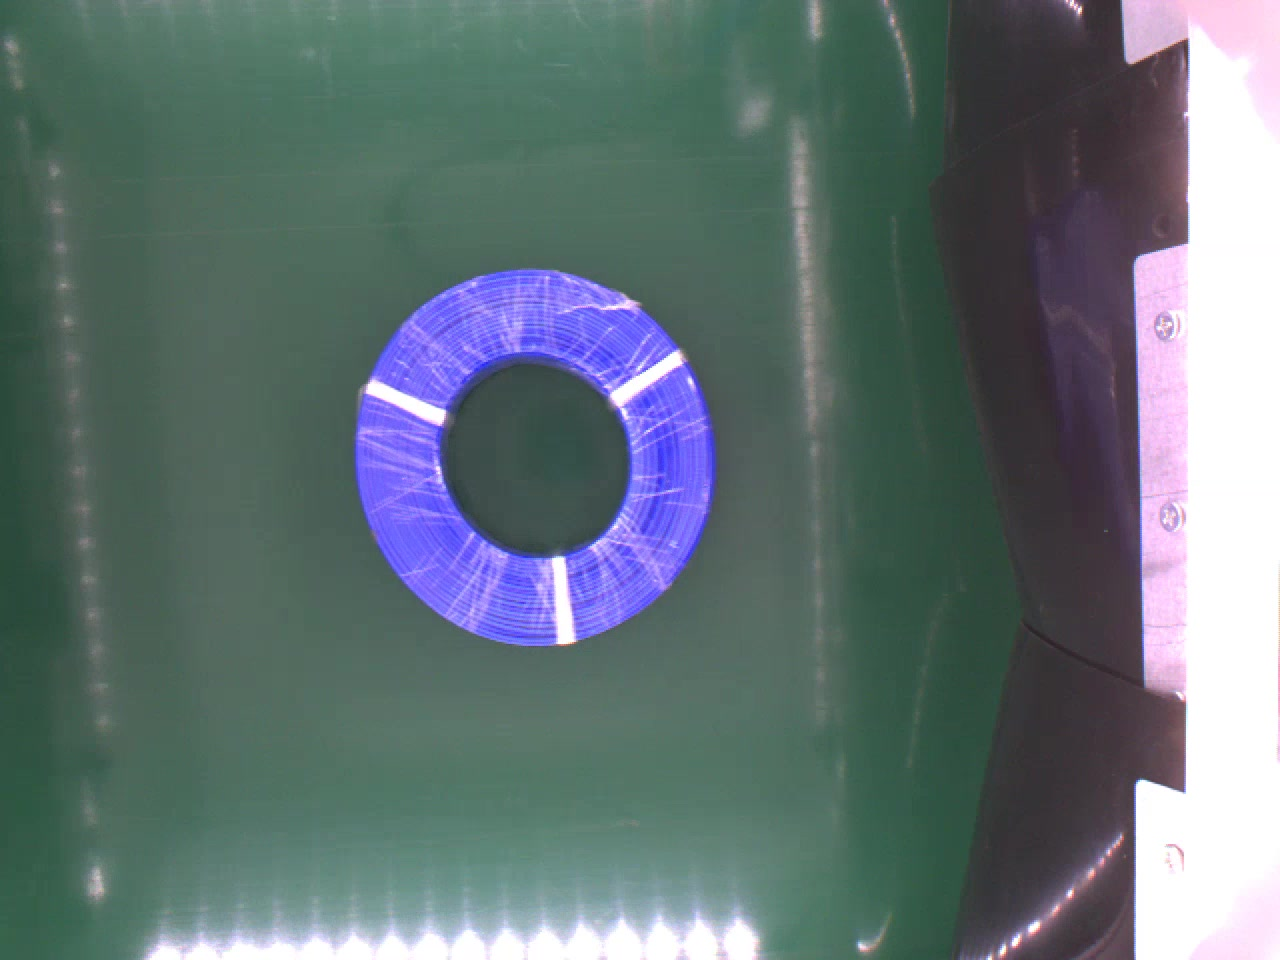blue: (341, 258, 723, 642)
